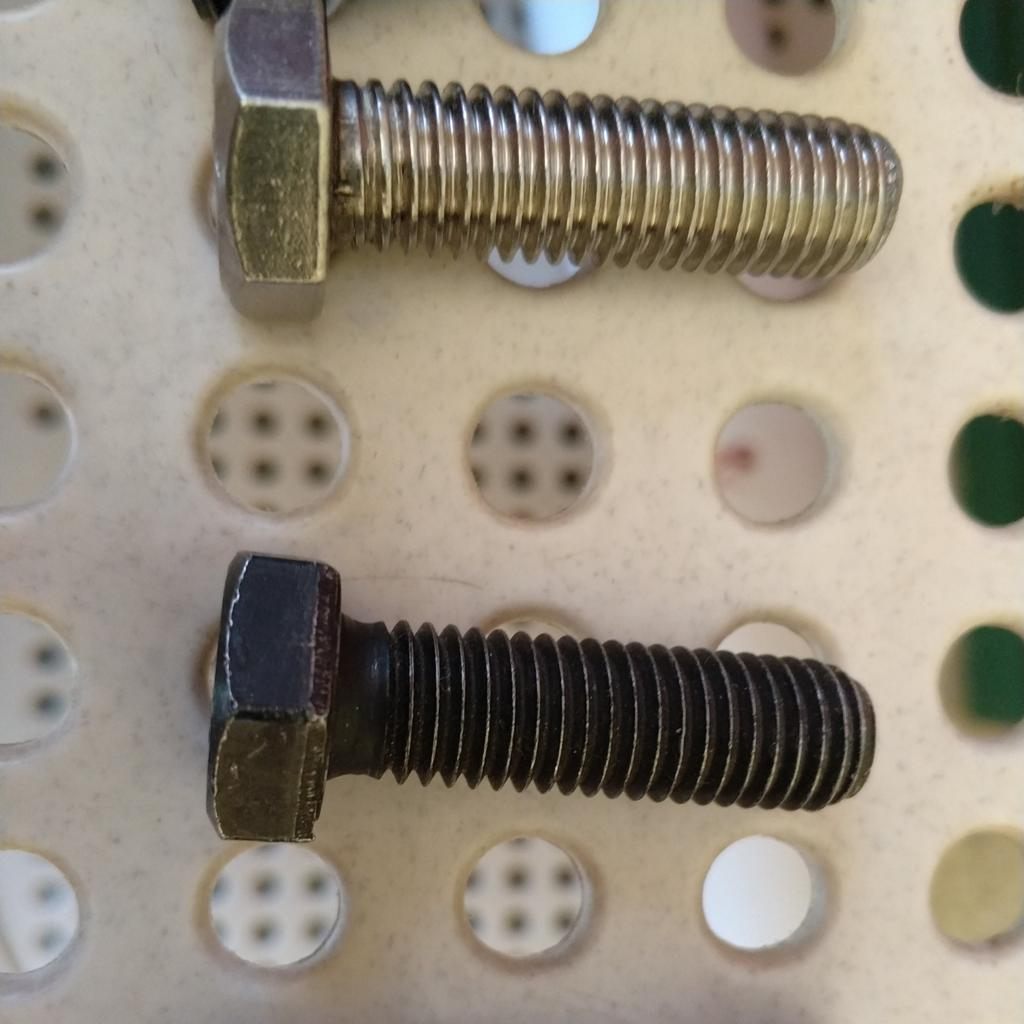screwtype2black: (193, 534, 881, 850)
screwtype2silver: (201, 1, 909, 343)
